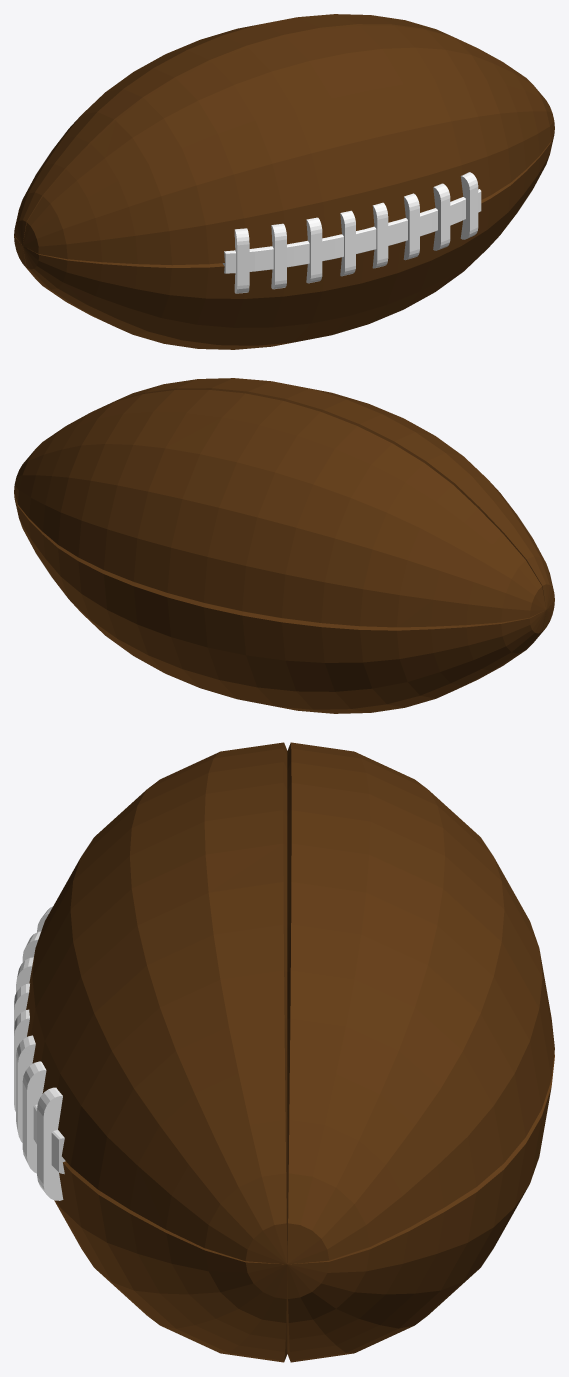
The model's file is tinker.obj.
3 renders of one model, top to bottom at view 1: azimuth 30°, elevation 25°; view 2: azimuth 150°, elevation 25°; view 3: azimuth 270°, elevation 25°, orthographic. The views are drawn at different scales.
Visible parts, largest first — view 1: group_0_6306067, group_0_16448250; view 2: group_0_6306067; view 3: group_0_6306067, group_0_16448250.
Part boxes in pixels (<box>): group_0_6306067: <box>14,14,554,349</box>; group_0_16448250: <box>222,172,481,293</box>; group_0_6306067: <box>14,378,554,713</box>; group_0_6306067: <box>26,742,554,1362</box>; group_0_16448250: <box>14,906,65,1200</box>.
Size of the model in its own units: 66.75 by 35.59 by 36.
